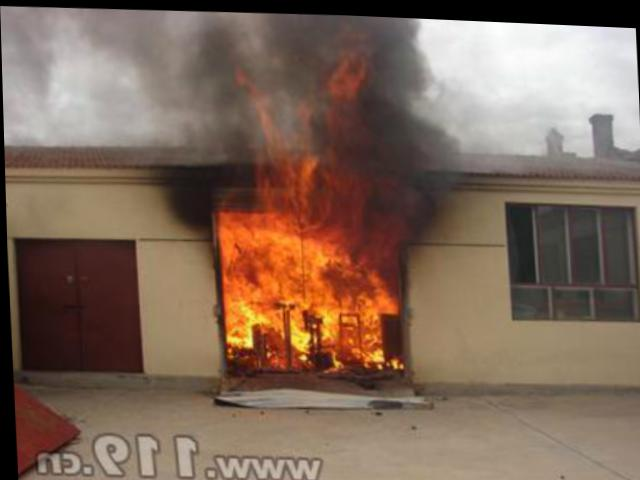fire: (217, 204, 399, 374), (255, 147, 371, 213), (313, 48, 376, 149)
